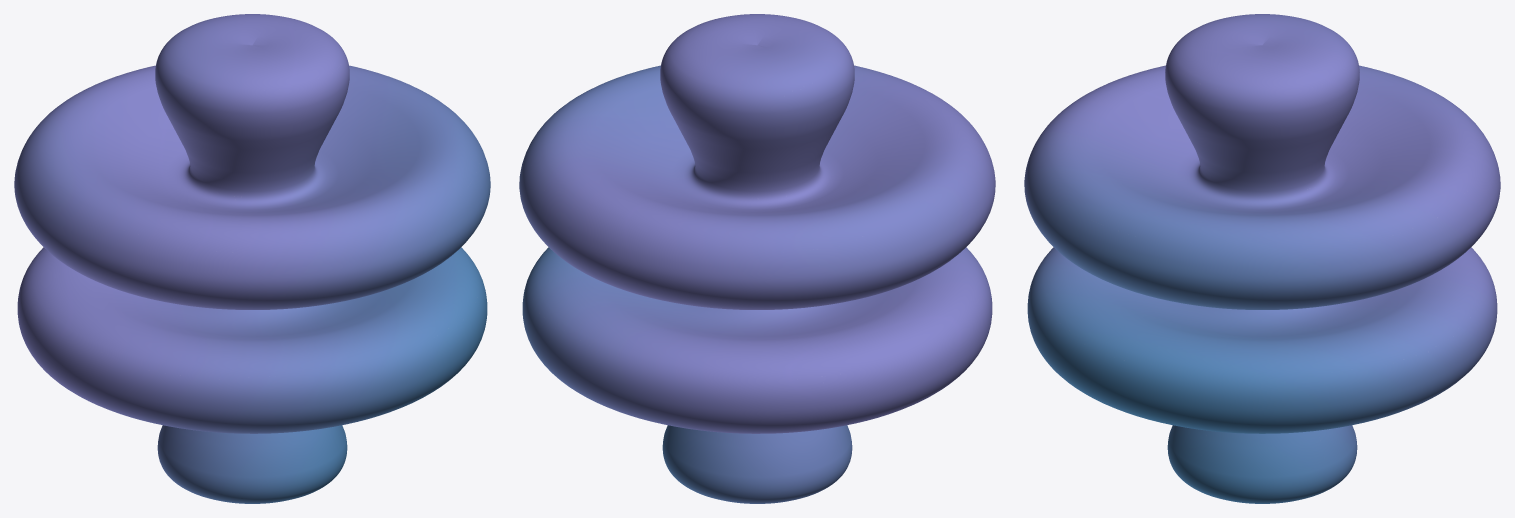
The model's file is 03_swirlnut_static.glb.
3 views of the same model, side by side, from view 1: azimuth 30°, elevation 25°; view 2: azimuth 150°, elevation 25°; view 3: azimuth 270°, elevation 25° (orthographic).
Visible parts, largest first — view 1: 03_swirlnut.2; view 2: 03_swirlnut.2; view 3: 03_swirlnut.2.
Boxes of the visible parts, bbox=[...] form: 03_swirlnut.2: bbox=[14, 14, 490, 503]; 03_swirlnut.2: bbox=[519, 14, 995, 503]; 03_swirlnut.2: bbox=[1024, 14, 1500, 503].
Size of the model in its own units: 0.1251 by 0.1258 by 0.1251.
Materials: 1 (1 with a texture image).
